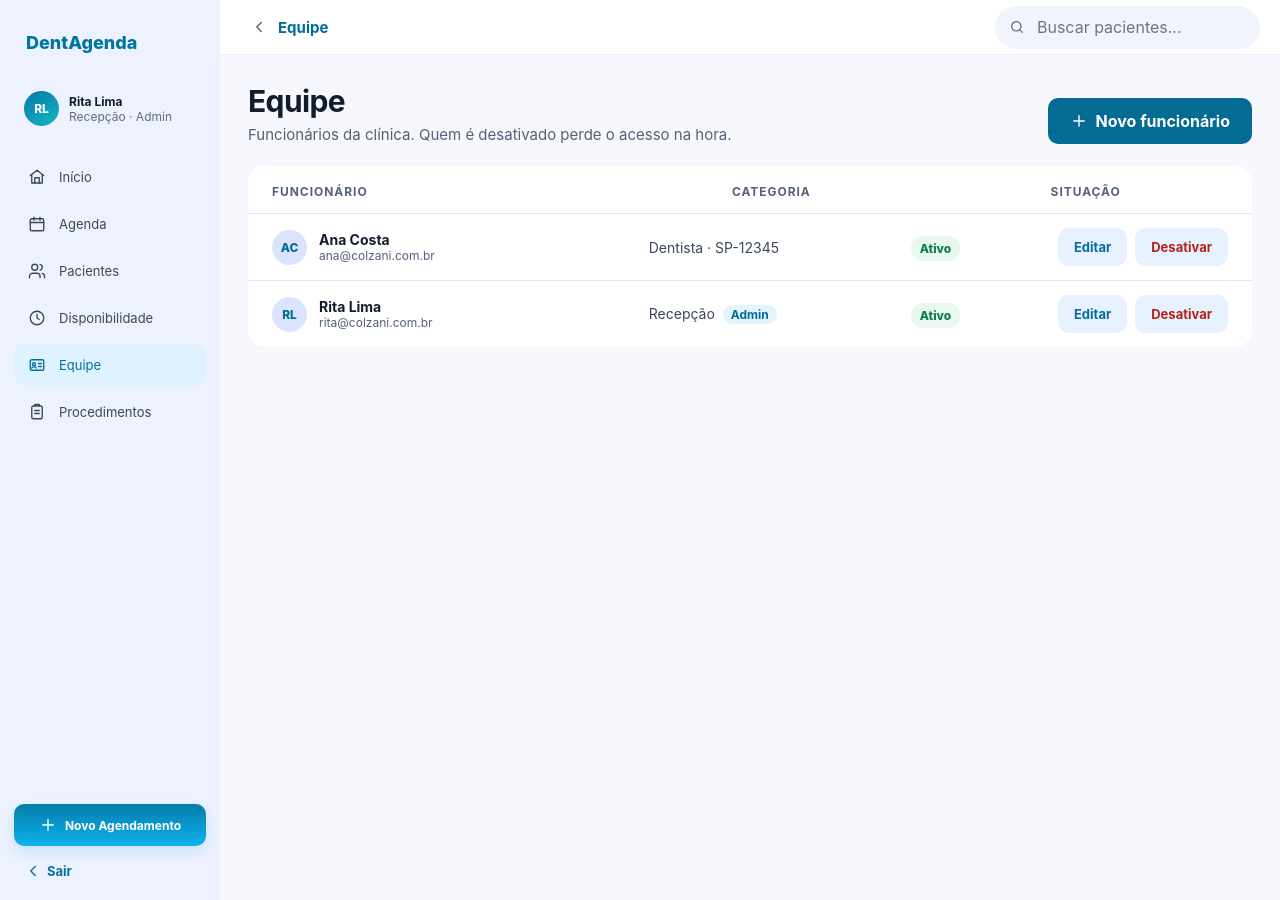
Scenario: Equipe (D37, só admin) › edita mandando só o que mudou
The image size is (1280, 900).
Click the button with aria-label "Editar Ana Costa": (1093, 247) [1058,228,1127,266]
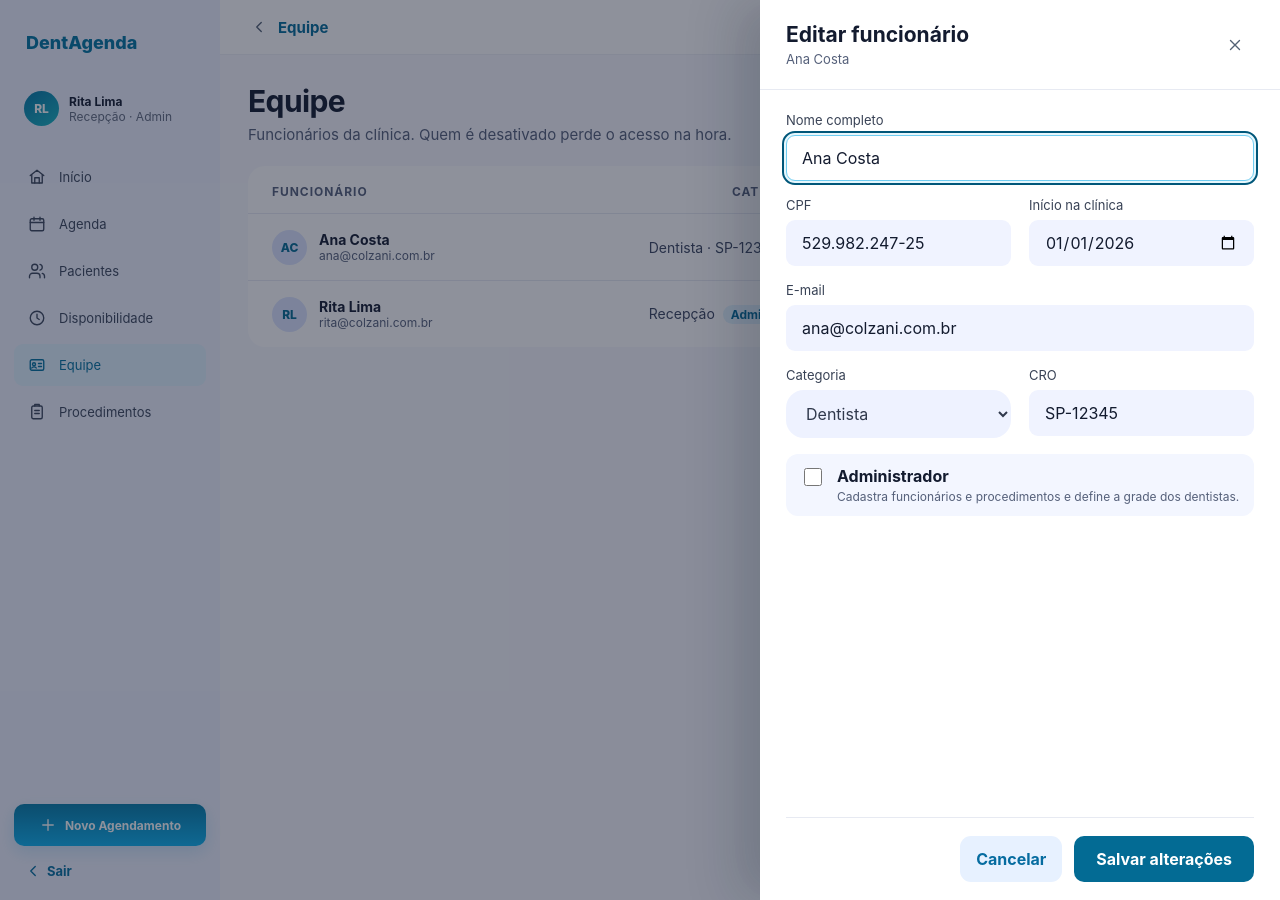
Expected: the field labelled "CRO" holds "SP-12345", [1030,403,1253,423]
Click the checkbox labelled "Administrador": (813, 477) [804,468,822,486]
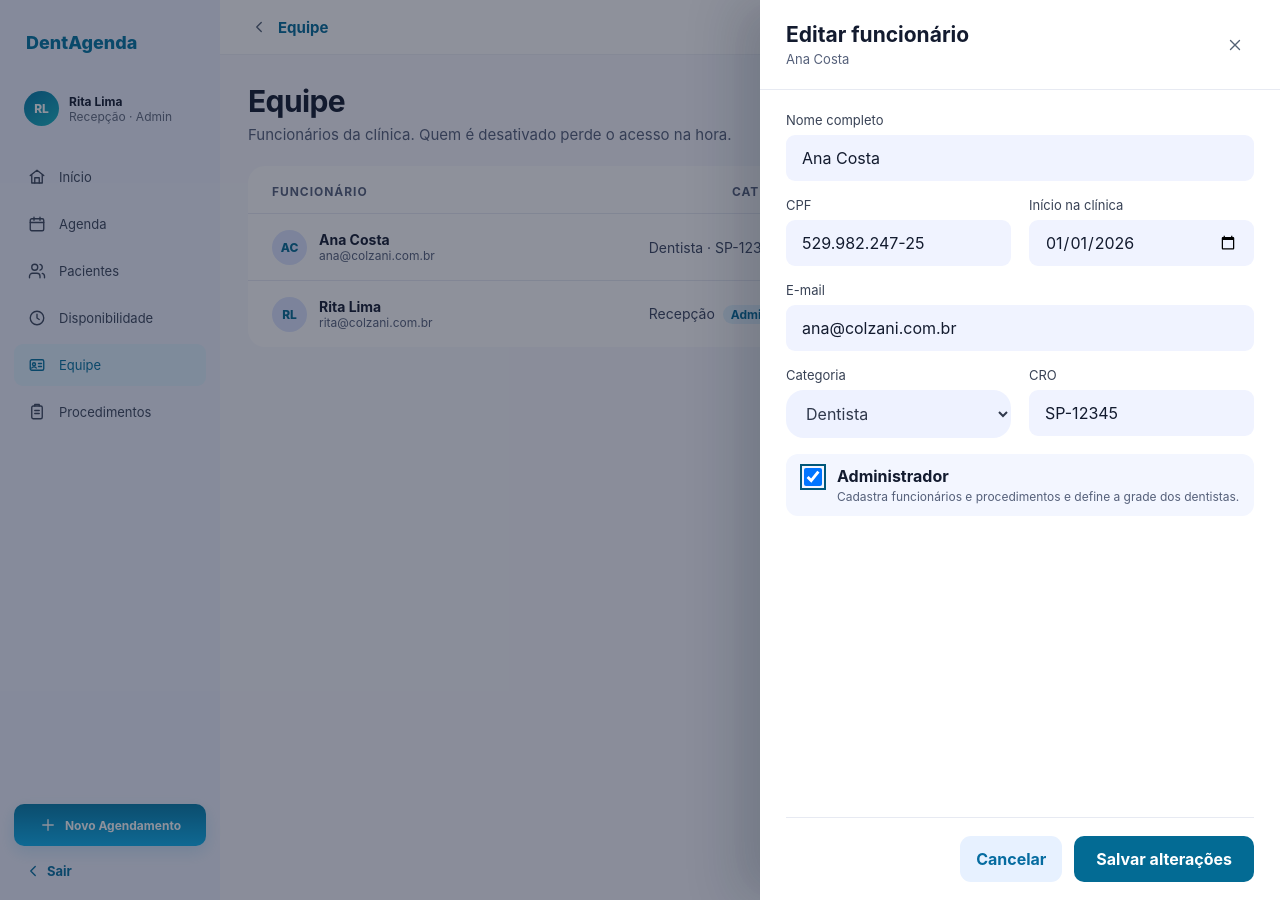
Click the button "Salvar alterações": (1164, 859) [1074,836,1254,882]
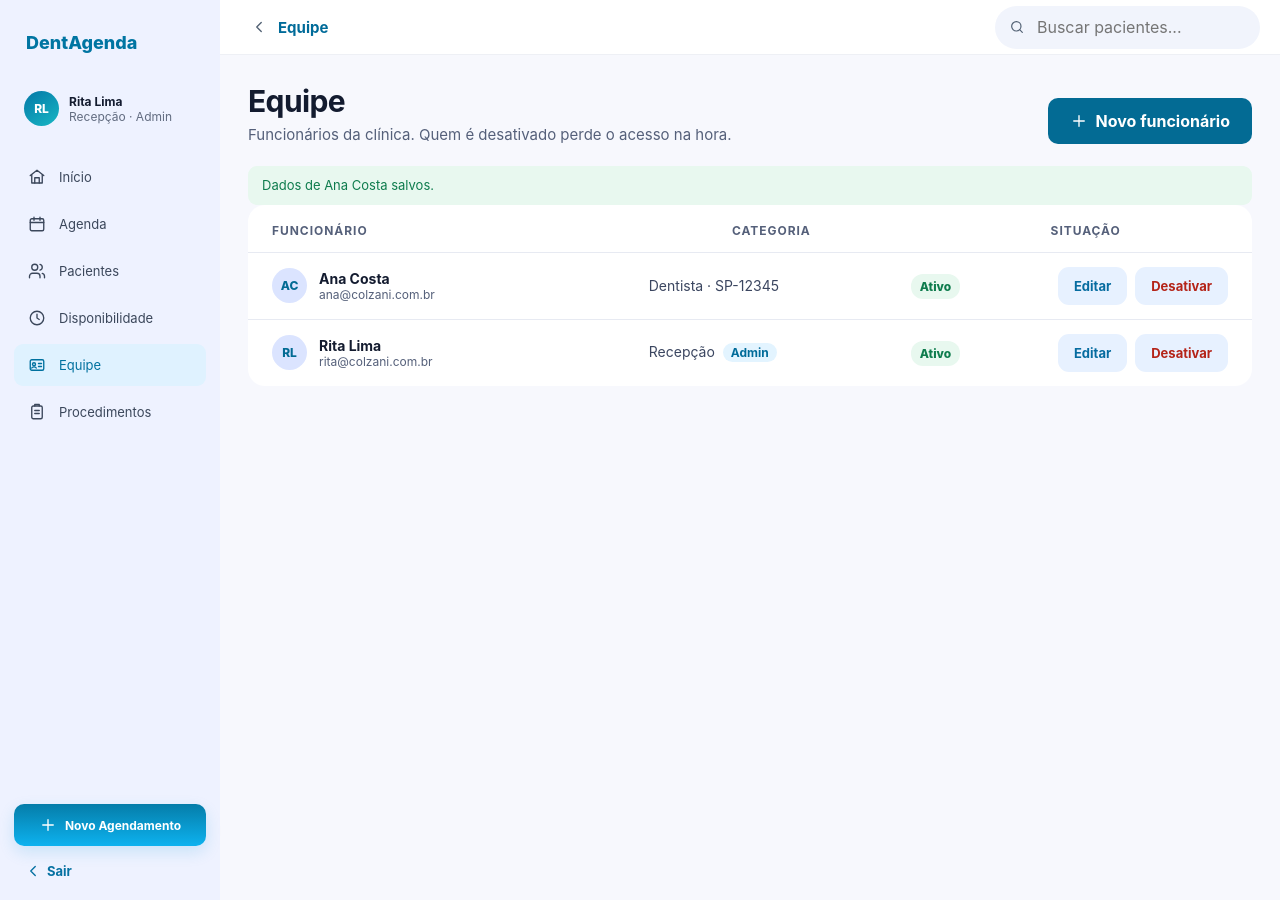
Expected: the text "Dados de Ana Costa salvos." is shown, [248,166,1252,205]
